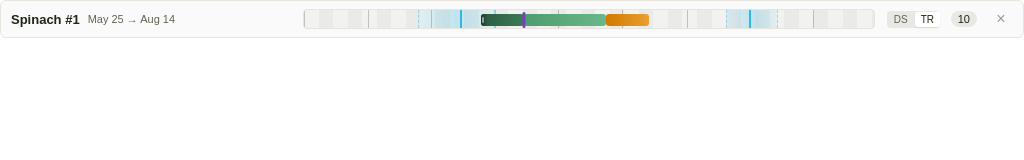
Test case: PlantingCard › method toggle › shows notice when method switch is not viable
Click the button titled "Direct sow outdoors" at (901, 19), box [888,12,914,26]
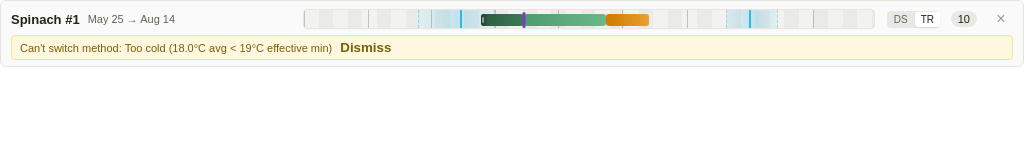
Now the text "Can't switch method" is shown, box [20,42,125,54]
